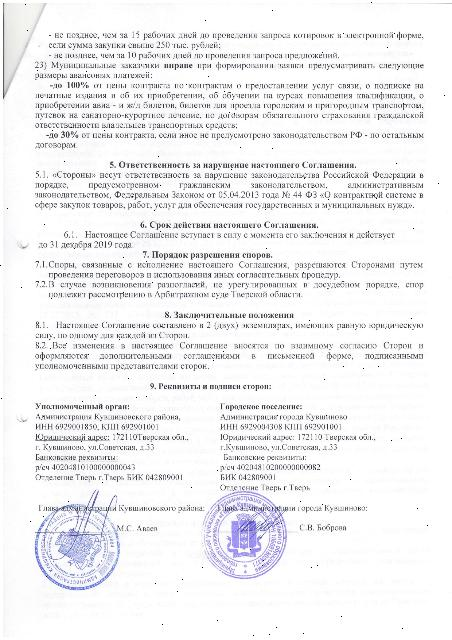stamp: (31, 504, 120, 590), (201, 492, 285, 578)
